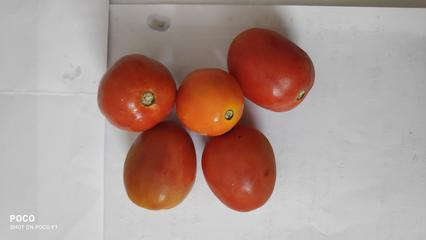tomato: (224, 27, 309, 117), (121, 126, 200, 213), (198, 122, 276, 206), (175, 70, 249, 148), (88, 54, 170, 118)
